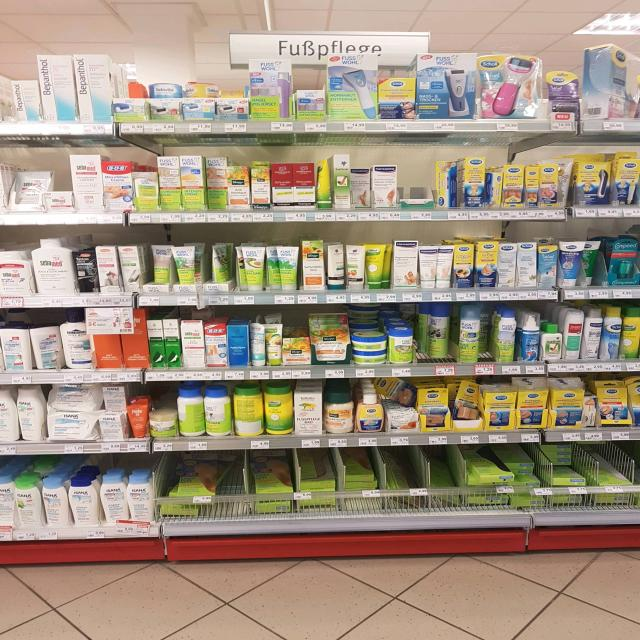empty: (397, 163, 436, 214)
